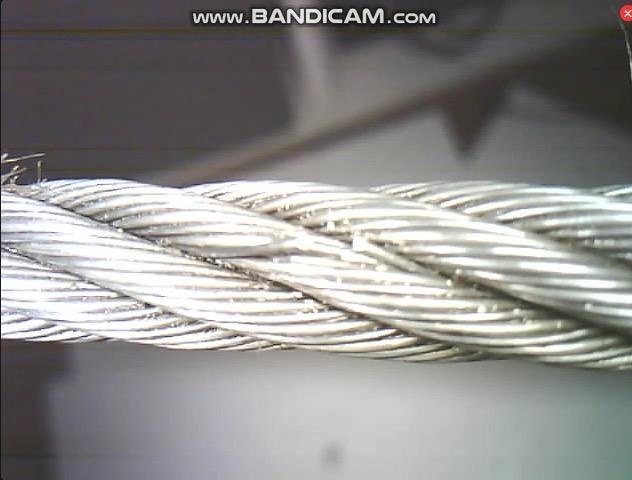break: (255, 214, 377, 265)
